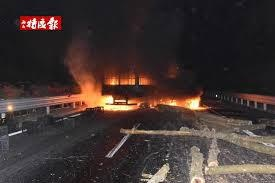fire: (94, 86, 207, 109)
